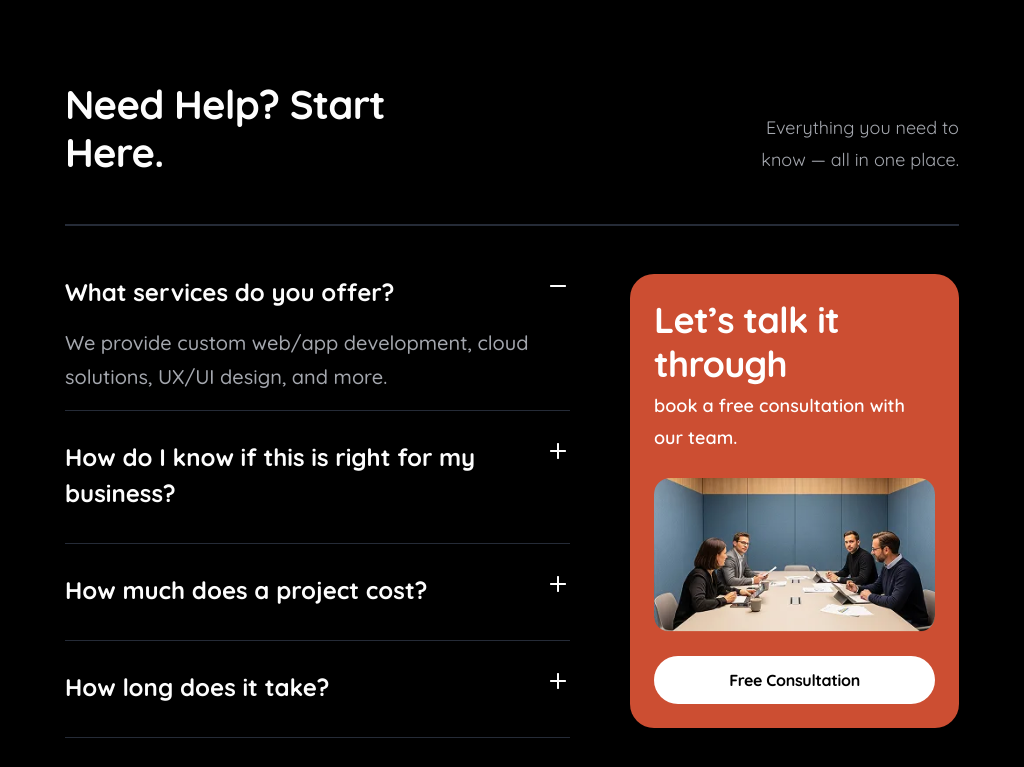
Scenario: FAQSection › only keeps one question open at a time
Click the button "How do I know if this is right for my business?".
click(318, 475)  # box x1=65 y1=439 x2=570 y2=511
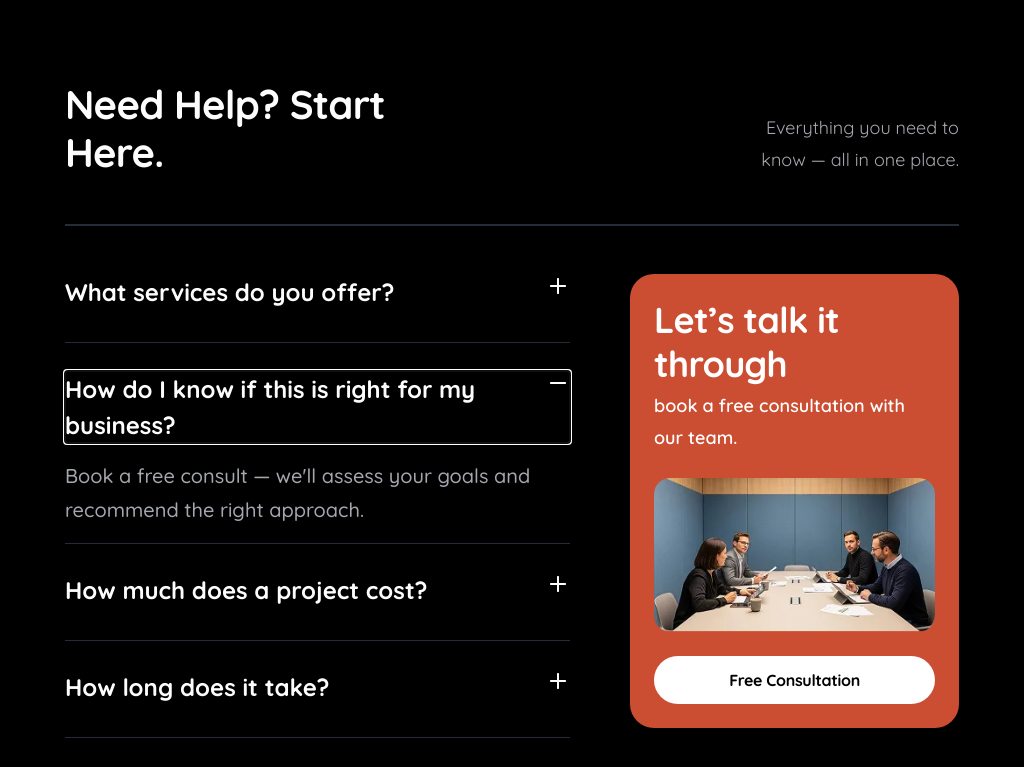
Expected: the button "How do I know if this is right for my business?" is expanded, x1=65 y1=371 x2=570 y2=443
